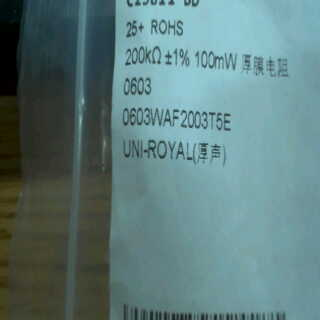200kR: (121, 41, 165, 68)
